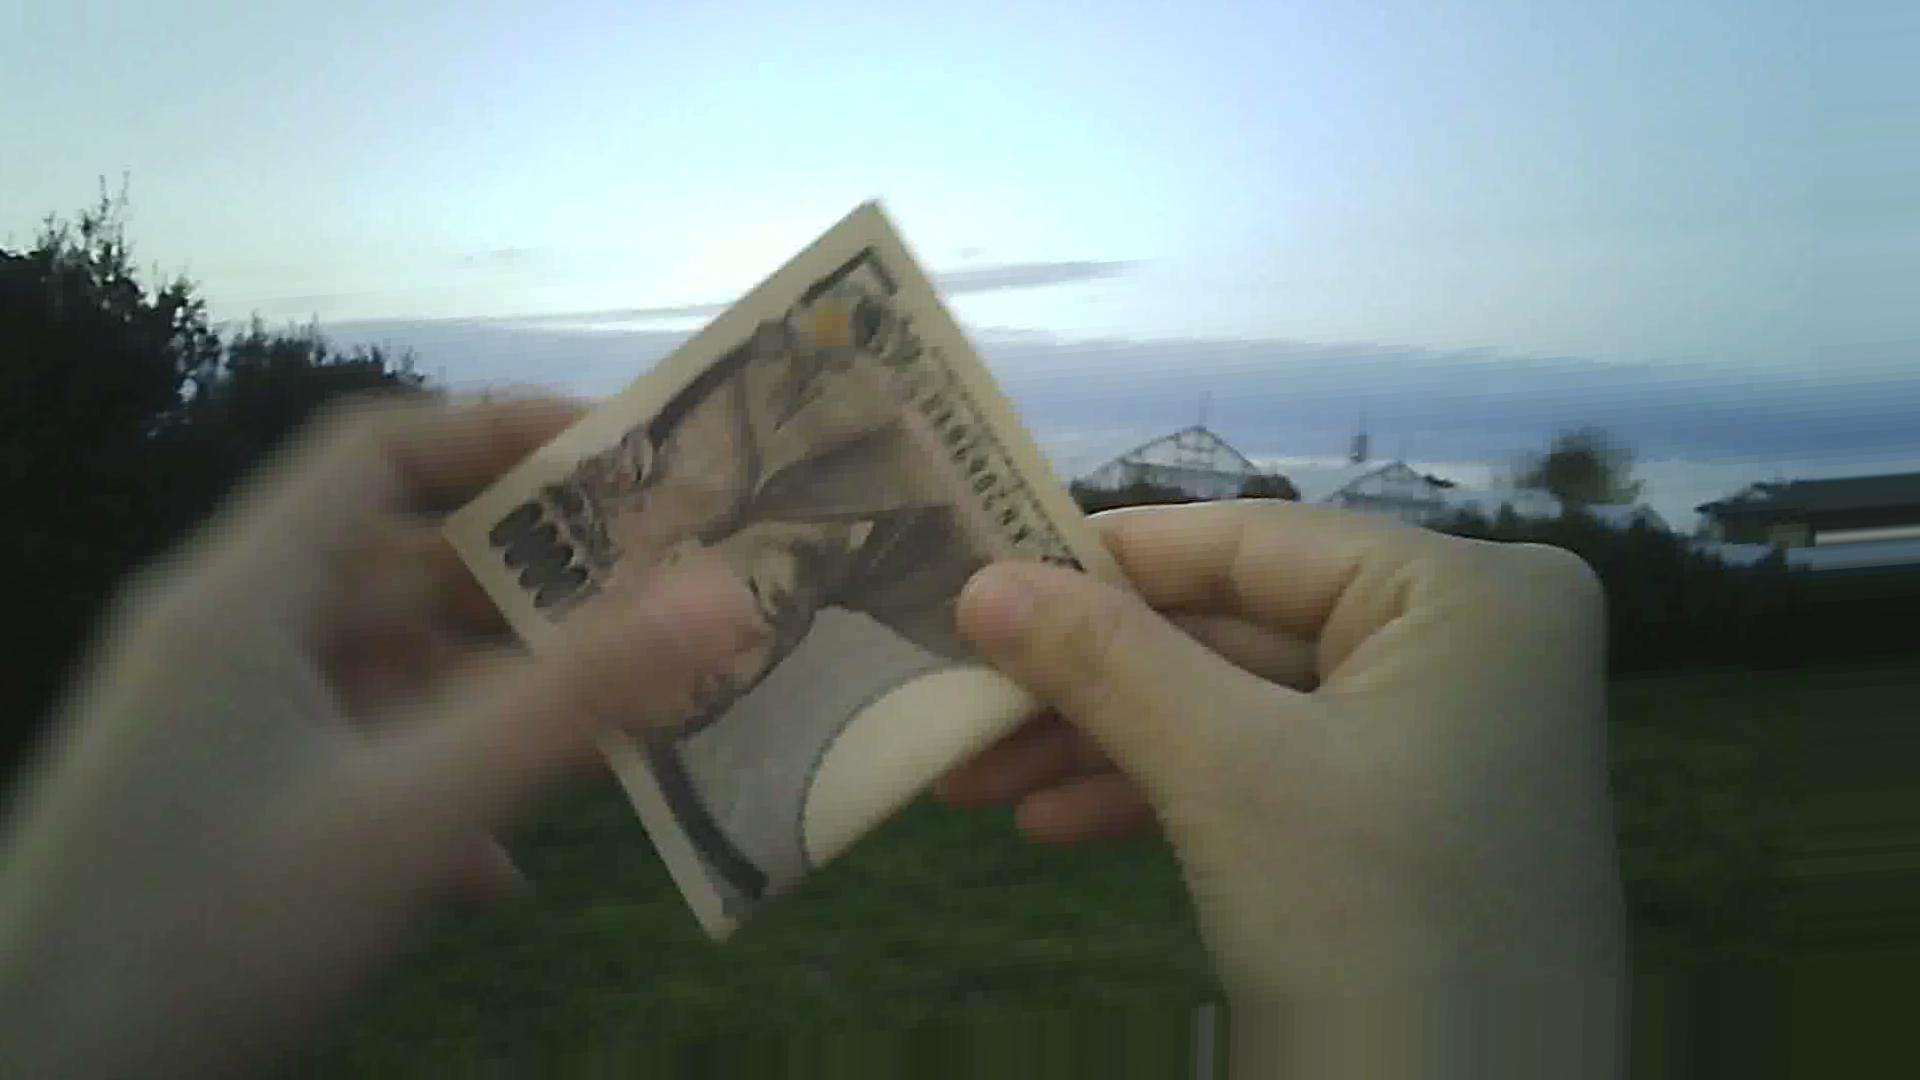10,000 Yen: (359, 189, 1139, 924)
